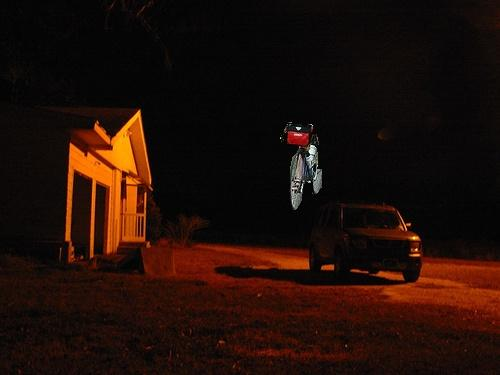tampered: (281, 123, 322, 210)
